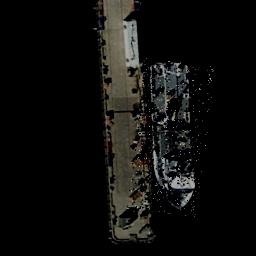boat: (145, 58, 200, 216)
